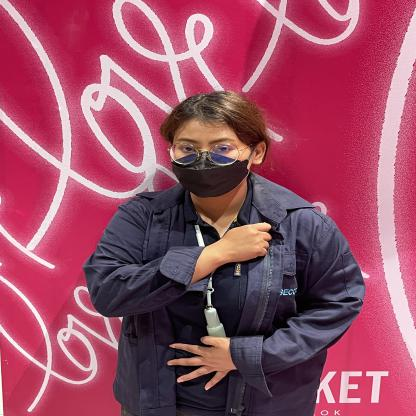Sadness: (123, 199, 376, 288)
